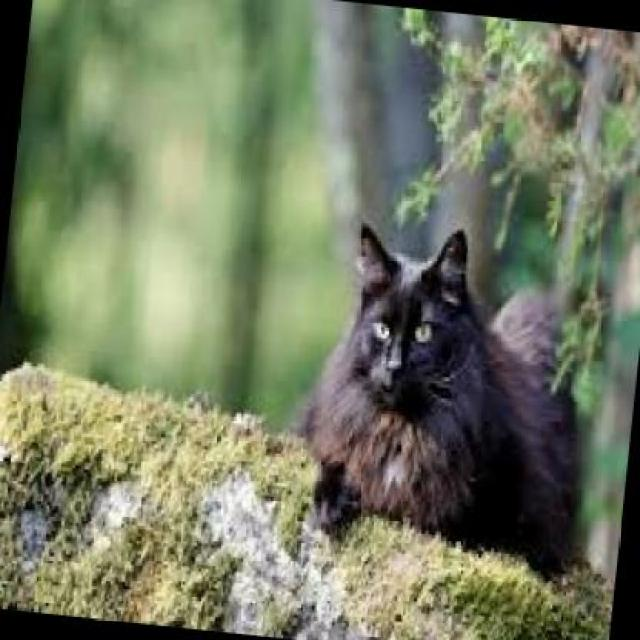animals: (292, 208, 605, 567)
